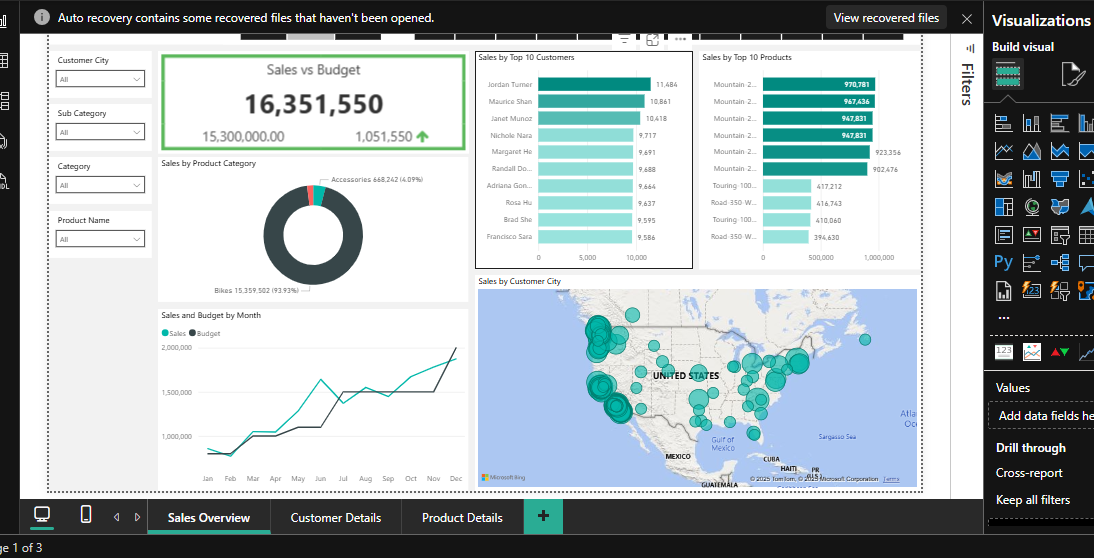

The dashboard page shown, as its layout file describes it:
{"tool":"powerbi","page":{"name":"Sales Overview","canvas":[1280,720],"ordinal":0},"visuals":[{"type":"textbox","box":[0,0,1280,64],"z":0},{"type":"slicer","fields":{"Values":["DIM_Calendar.Year"]},"box":[256,0,256,64],"z":1000},{"type":"slicer","fields":{"Values":["DIM_Calendar.MonthShort"]},"box":[512,0,768,64],"z":2000},{"type":"slicer","fields":{"Values":["DIM_Customers.Customer City"]},"box":[0,73,150.5,69.3],"z":3000},{"type":"slicer","fields":{"Values":["DIM_Products.Product Category"]},"box":[0,229.9,150.5,69.3],"z":4000},{"type":"slicer","fields":{"Values":["DIM_Products.Product Name"]},"box":[0,308.4,150.5,69.3],"z":5000},{"type":"slicer","fields":{"Values":["DIM_Products.Sub Category"]},"box":[0,151.4,150.5,69.3],"z":6000},{"type":"barChart","title":"Sales by Top 10 Products","fields":{"Category":["DIM_Products.Product Name"],"Y":["Analysis Metrics.Sales"]},"box":[955.2,73,324.8,321.1],"z":7000},{"type":"lineChart","fields":{"Category":["DIM_Calendar.MonthShort"],"Y":["Analysis Metrics.Sales","Analysis Metrics.Budget"]},"box":[160.7,452.8,456.3,267.2],"z":8000},{"type":"barChart","title":"Sales by Top 10 Customers","fields":{"Category":["DIM_Customers.Full Name"],"Y":["Analysis Metrics.Sales"]},"box":[625.9,73,320.2,321.1],"z":9000},{"type":"donutChart","fields":{"Y":["Analysis Metrics.Sales"],"Series":["DIM_Products.Product Category"]},"box":[160.6,229.9,456.2,213.5],"z":10000},{"type":"map","fields":{"Category":["DIM_Customers.Customer City"],"Size":["Analysis Metrics.Sales"]},"box":[625.9,403.3,654.1,316.6],"z":12000},{"type":"BBED0A4D4D8D44CE93CF2DAFADEE466C","fields":{"actual":["Analysis Metrics.Sales"],"target2":["Analysis Metrics.Sales / Budget"],"target1":["Analysis Metrics.Budget"]},"box":[160.5,73.4,456.6,151.3],"z":13001}]}

Visuals, with their boxes on the page's 1280x720 design canvas (x1, y1, x2, y2). These are canvas units, not pixel positions in the 1094x558 screenshot, which may show the page scaled, cropped or inside an application window:
textbox: <region>0, 0, 1280, 64</region>
slicer - DIM_Calendar.Year: <region>256, 0, 512, 64</region>
slicer - DIM_Calendar.MonthShort: <region>512, 0, 1280, 64</region>
slicer - DIM_Customers.Customer City: <region>0, 73, 150, 142</region>
slicer - DIM_Products.Product Category: <region>0, 230, 150, 299</region>
slicer - DIM_Products.Product Name: <region>0, 308, 150, 378</region>
slicer - DIM_Products.Sub Category: <region>0, 151, 150, 221</region>
"Sales by Top 10 Products" barChart: <region>955, 73, 1280, 394</region>
lineChart - DIM_Calendar.MonthShort x Analysis Metrics.Sales: <region>161, 453, 617, 720</region>
"Sales by Top 10 Customers" barChart: <region>626, 73, 946, 394</region>
donutChart - Analysis Metrics.Sales x DIM_Products.Product Category: <region>161, 230, 617, 443</region>
map - DIM_Customers.Customer City x Analysis Metrics.Sales: <region>626, 403, 1280, 720</region>
BBED0A4D4D8D44CE93CF2DAFADEE466C - Analysis Metrics.Sales x Analysis Metrics.Sales / Budget: <region>160, 73, 617, 225</region>
